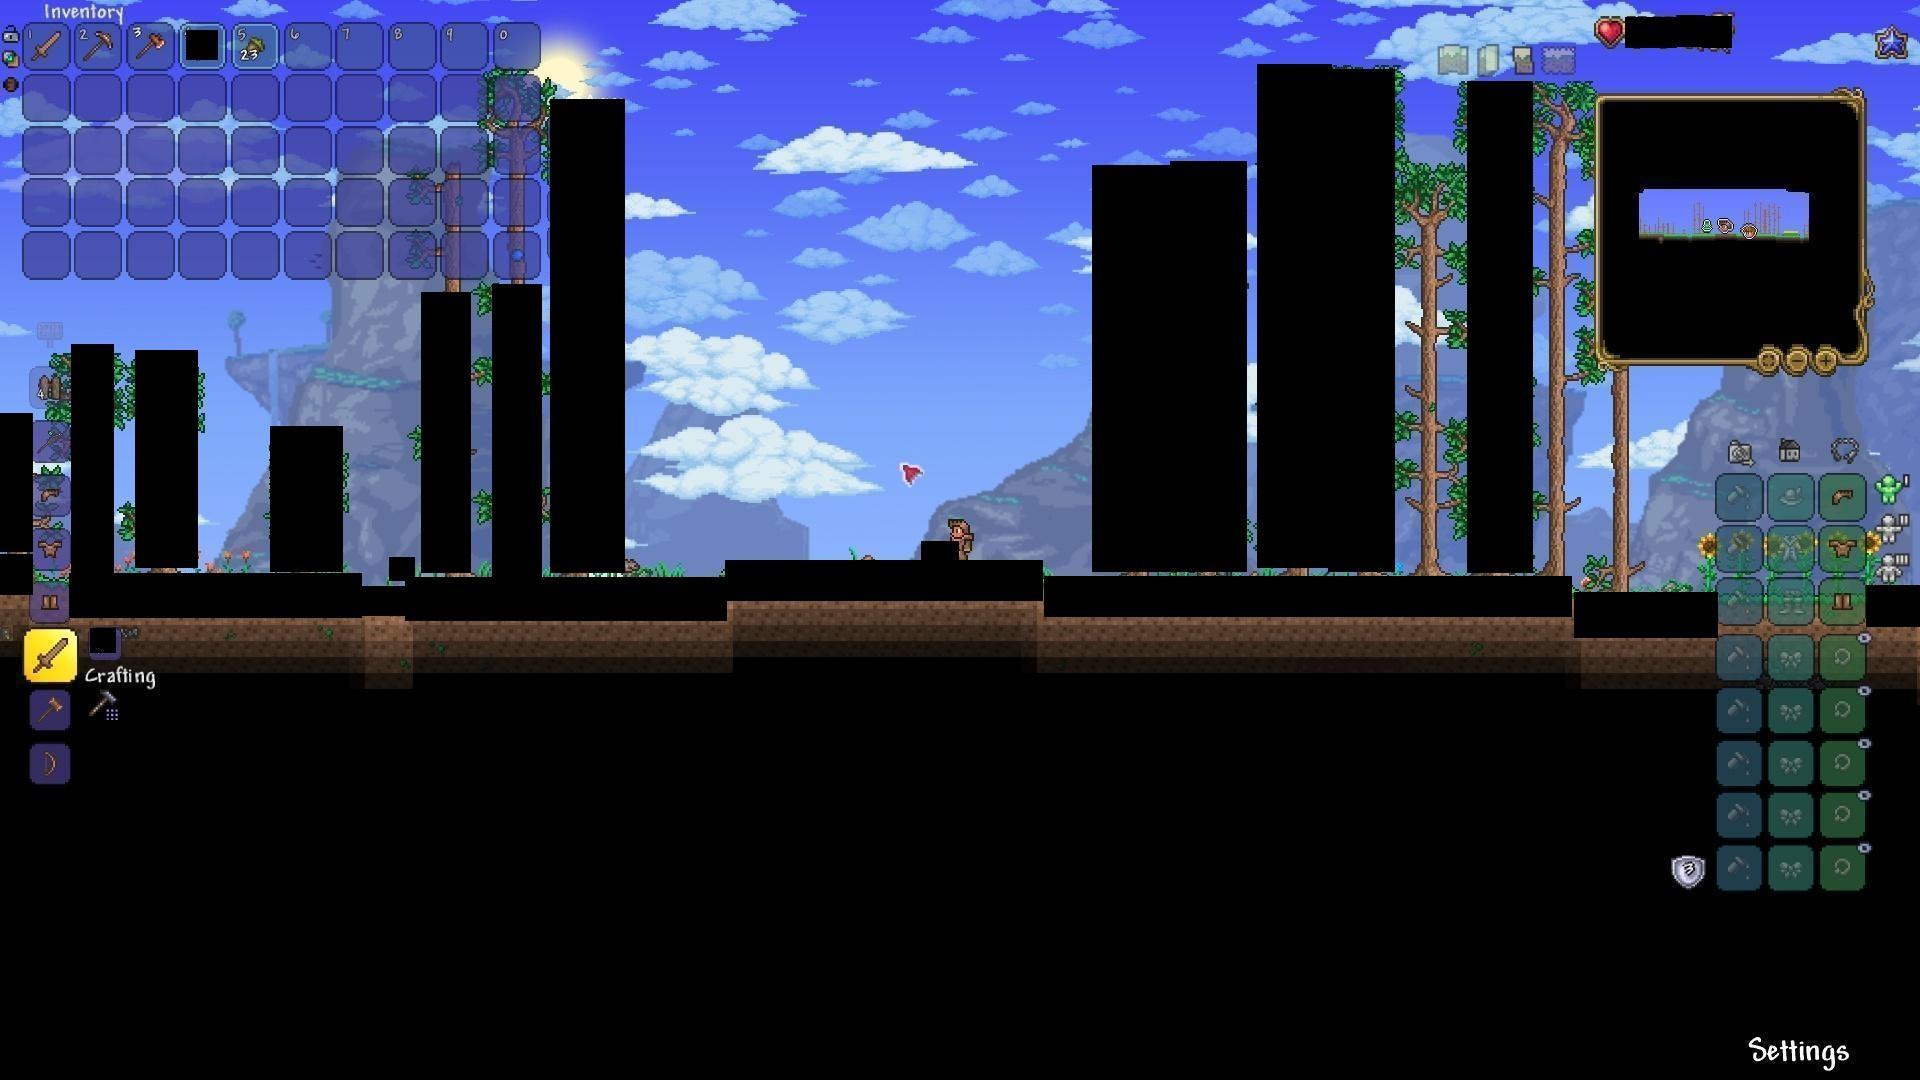breastplate: (34, 541, 62, 560), (1830, 539, 1859, 558)
heart: (1596, 15, 1629, 46)
helmet: (37, 480, 69, 508), (1826, 483, 1858, 510)
legs: (37, 588, 62, 616), (1830, 588, 1855, 615)
tree: (1393, 152, 1462, 570), (1532, 87, 1592, 574), (1596, 360, 1640, 588)
